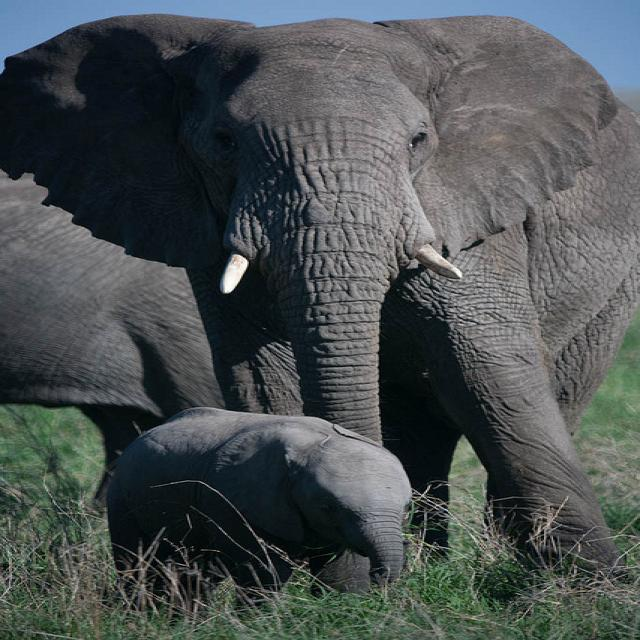Elephant: (0, 12, 639, 583), (103, 405, 414, 616)
